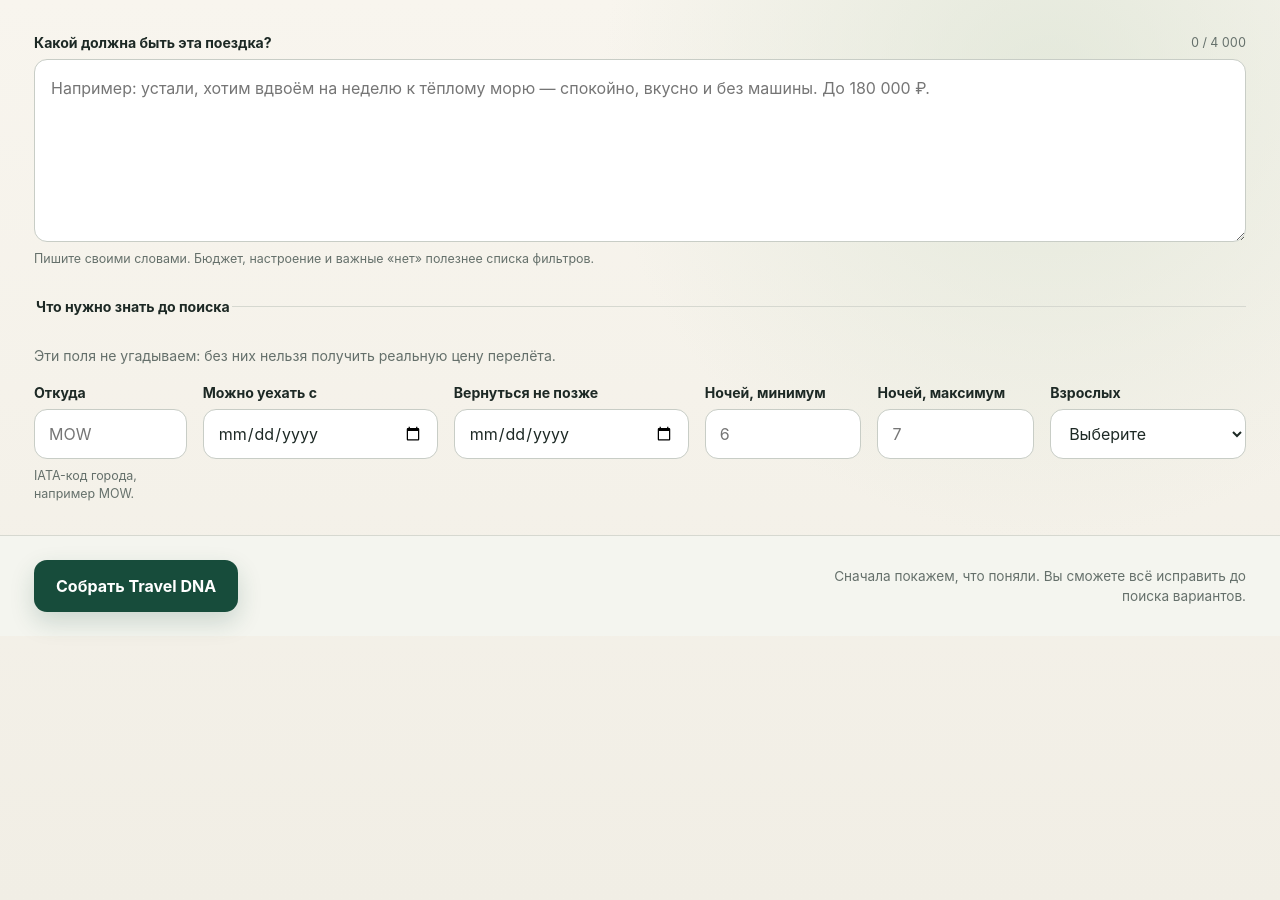
DreamForm › requires every field the API contract needs
This screenshot has width=1280, height=900.
Click the button "Собрать Travel DNA".
click(136, 586)  # box [34,560,238,612]
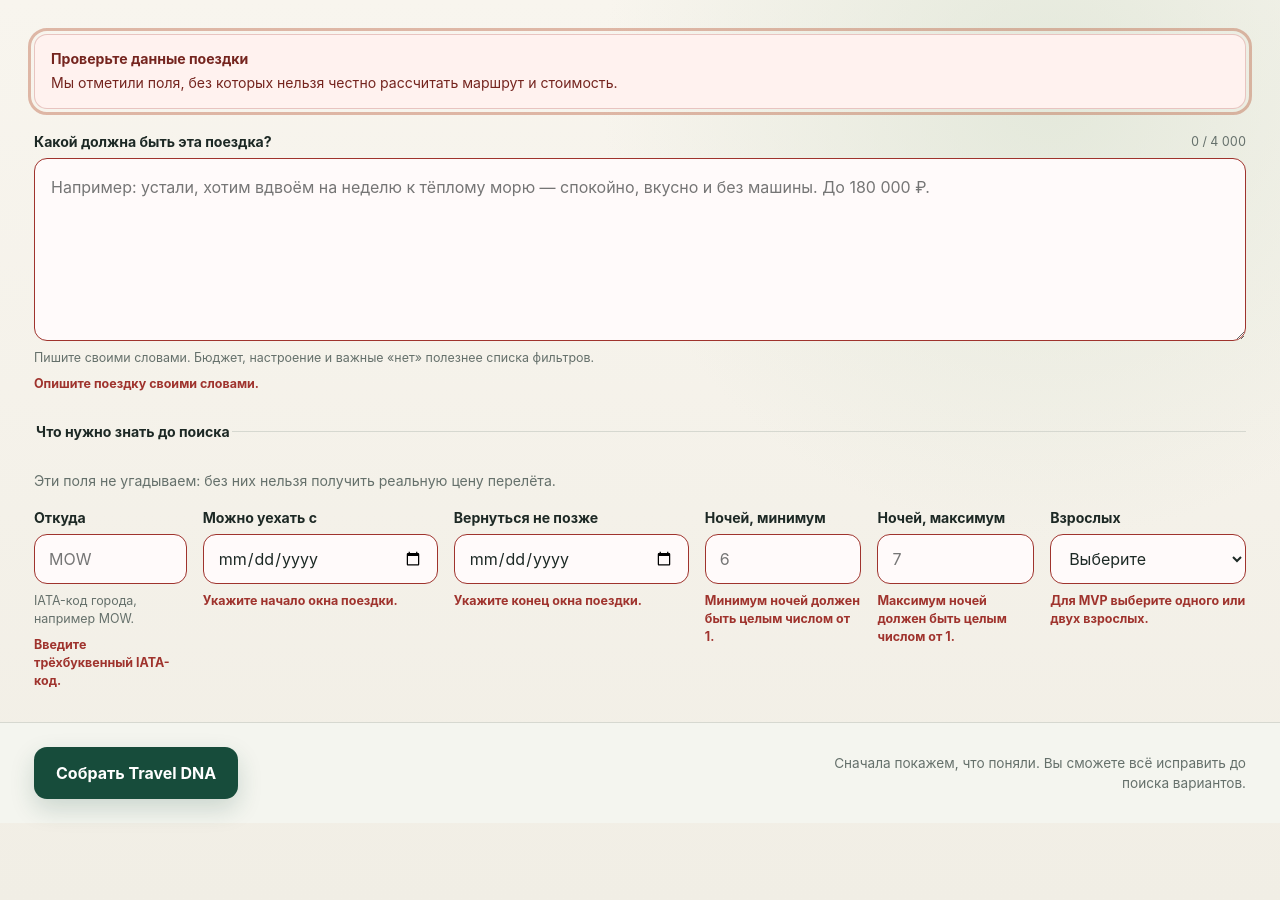
Result: the message shows "Проверьте данные поездки" at [51,50,248,67]
